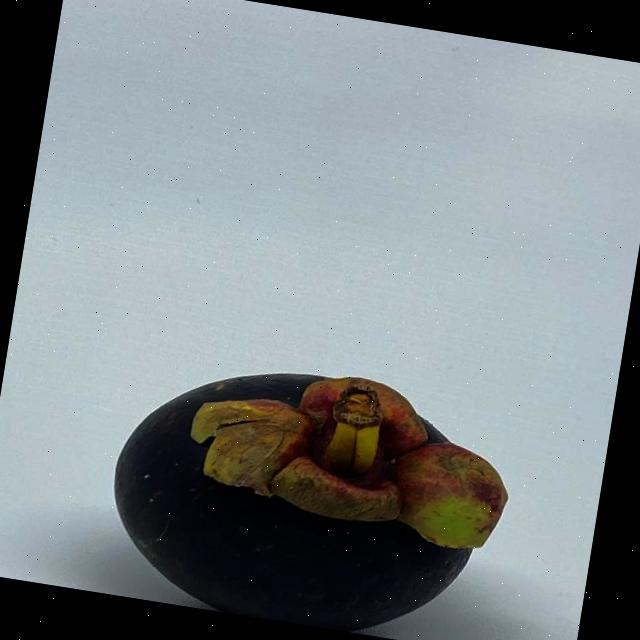mangosteen: (67, 312, 541, 640)
